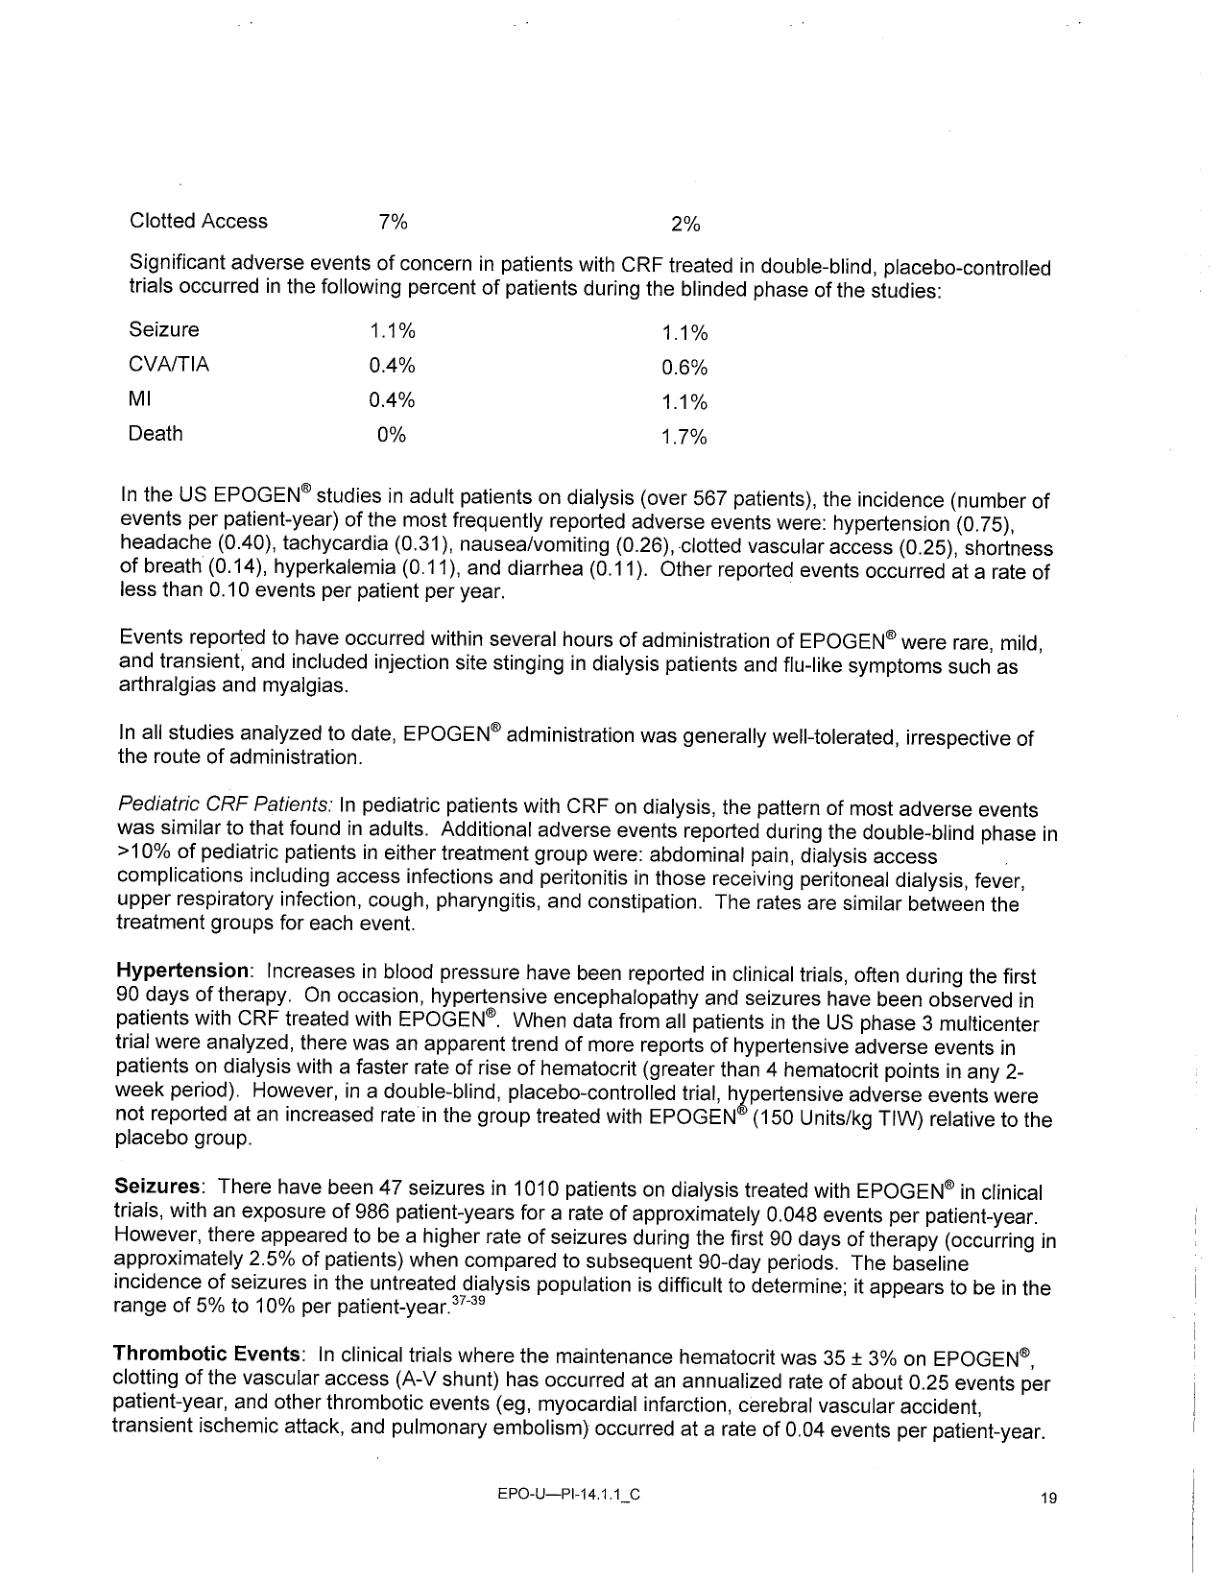nolines: (123, 318, 715, 447)
